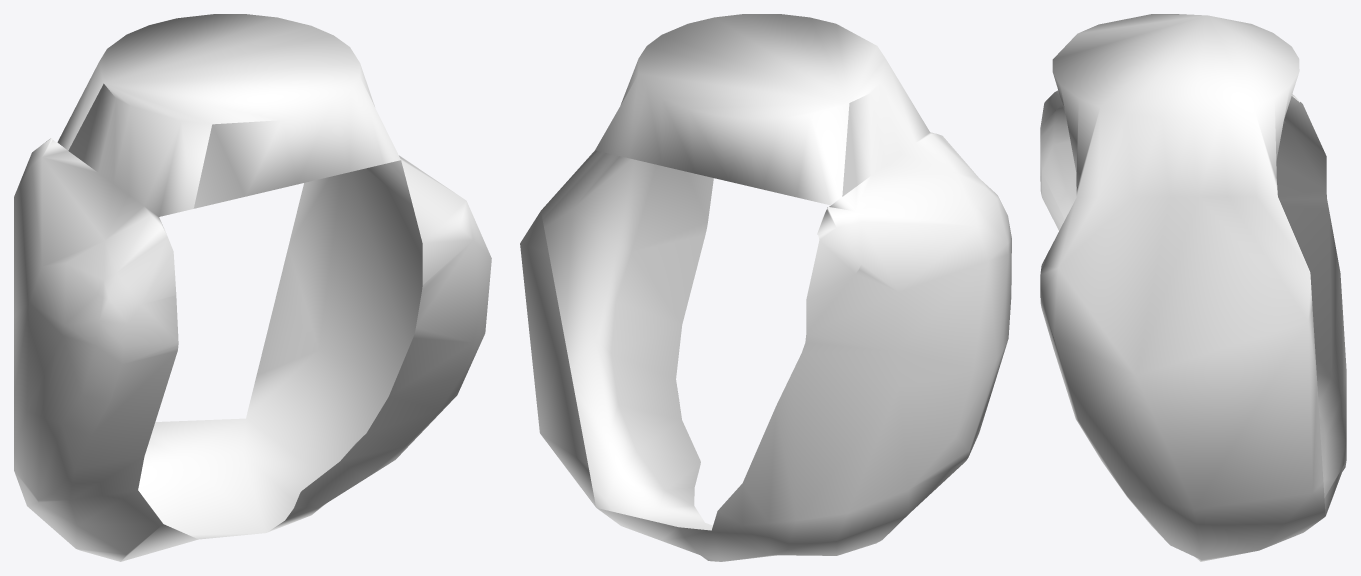
The model's file is lj1_right.dae.
3 views of the same model, side by side, from view 1: azimuth 30°, elevation 25°; view 2: azimuth 150°, elevation 25°; view 3: azimuth 270°, elevation 25° (orthographic). The views are drawn at different scales.
Visible parts, largest first — view 1: Rlj1; view 2: Rlj1; view 3: Rlj1.
Part boxes in pixels (x1,y1,x2,y2): Rlj1: (14, 14, 491, 561); Rlj1: (520, 14, 1011, 561); Rlj1: (1040, 14, 1346, 561).
Size of the model in its own units: 0.236 by 0.1486 by 0.245.
1 material, 1 textured.
